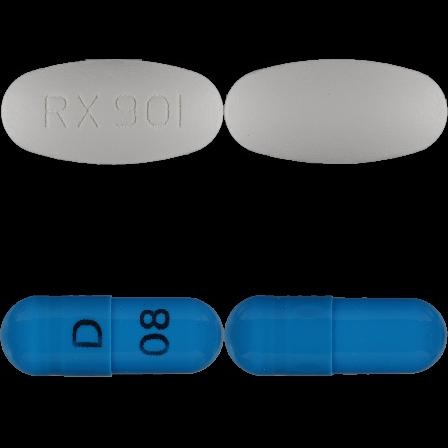61919-831: (0, 0, 224, 224)
